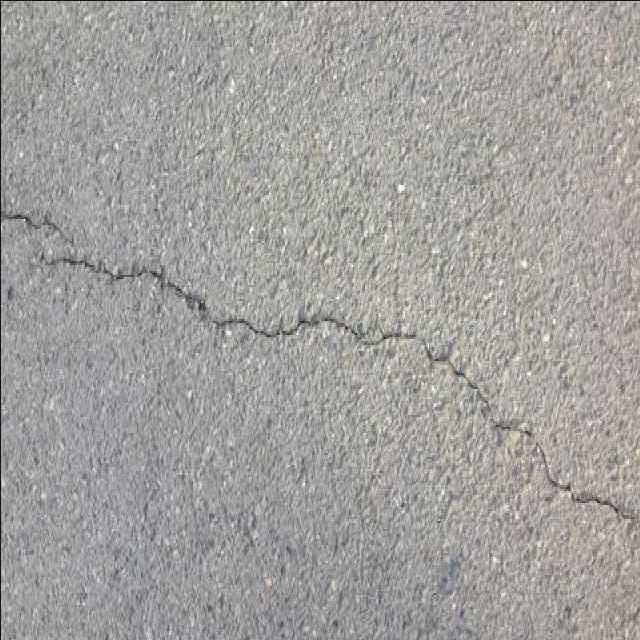crack: (3, 208, 639, 524)
